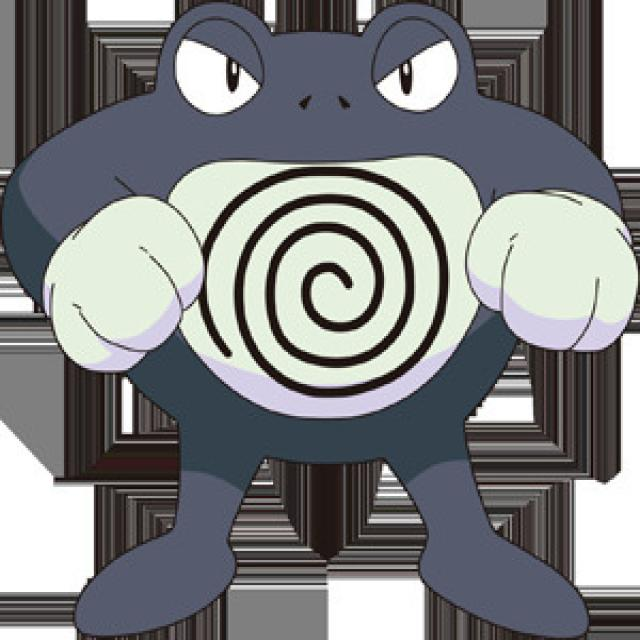Poliwrath: (42, 7, 618, 630)
